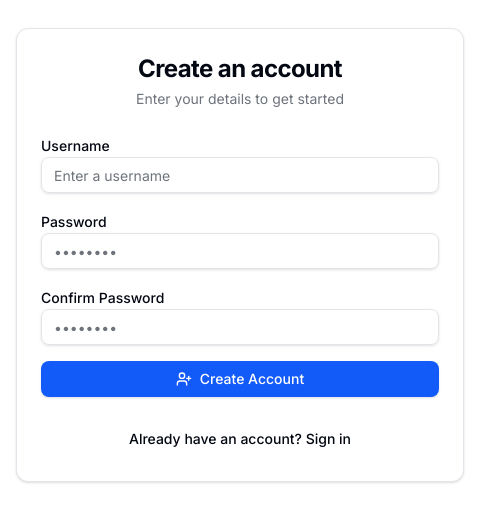
Test case: Signup › shows password mismatch error inline
Step 1. Type "password123" into the password field labelled "Password" → (240, 251), box [41,233,439,269]
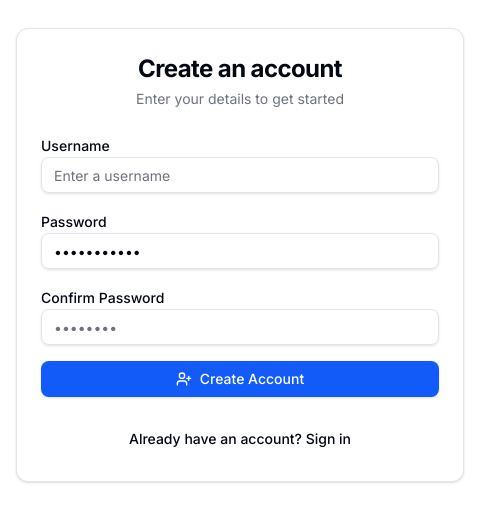
Step 2. Type "different" into the password field labelled "Confirm Password" → (240, 327), box [41,309,439,345]
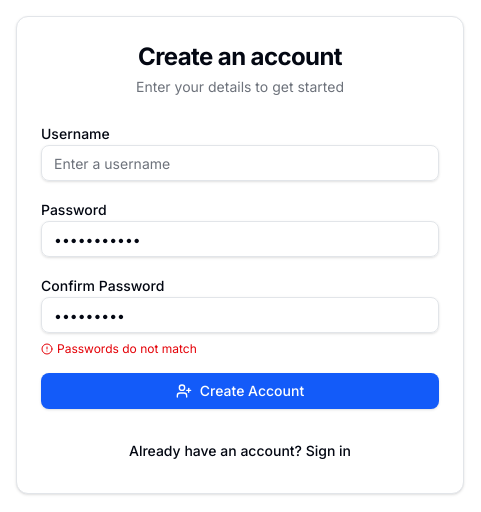
Expected: the text "Passwords do not match" is shown, [41,341,197,356]
